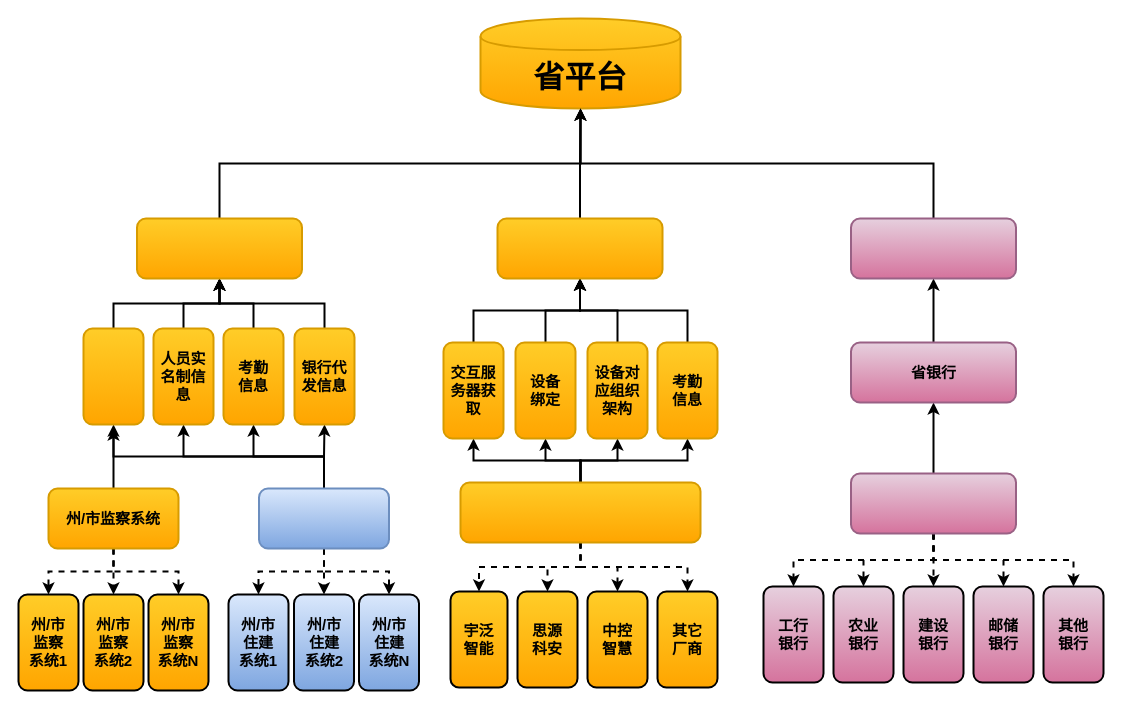
This 1121x708 diagram has some shape labels left out. The centre of each missing label's shape, as x and y in pixels:
"各厂商考勤设备,通过VPN专网" goes at point 580,512.
"各州/市银行" goes at point 933,503.
"州/市住建系统" goes at point 324,518.
"省平台对外标准 数据接口" goes at point 219,248.
"省平台硬件标准接口" goes at point 579,248.
"银行数据专线" goes at point 933,248.
"项目 信息" goes at point 113,376.
